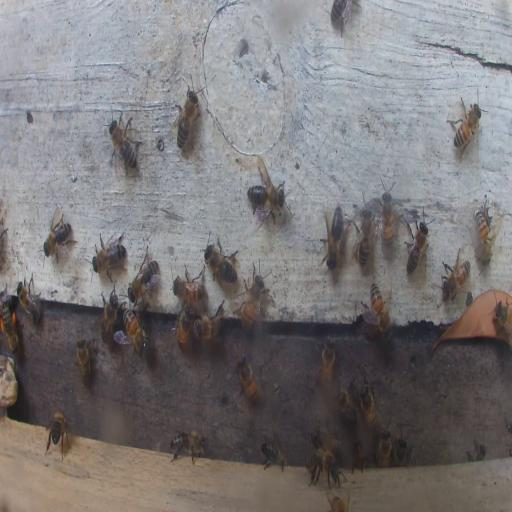bee: (106, 108, 140, 176), (247, 170, 288, 225), (448, 97, 484, 157), (237, 263, 267, 332), (203, 234, 240, 288), (172, 81, 200, 152), (129, 249, 160, 305), (43, 207, 74, 262), (91, 231, 128, 277), (440, 250, 471, 300), (320, 203, 344, 267), (404, 215, 430, 274), (305, 447, 340, 489), (367, 282, 392, 340), (122, 307, 150, 358), (172, 264, 205, 307), (236, 358, 264, 406), (474, 203, 496, 263), (169, 430, 207, 464), (354, 205, 374, 269), (17, 274, 42, 322), (45, 412, 71, 458), (315, 337, 336, 390), (359, 376, 378, 434), (258, 436, 288, 472), (1, 296, 19, 354), (100, 288, 120, 339), (328, 0, 356, 35), (194, 309, 224, 341), (336, 383, 358, 423), (491, 301, 512, 340), (175, 306, 194, 346), (75, 337, 90, 386), (382, 192, 394, 253), (375, 426, 392, 468), (350, 438, 366, 473), (468, 440, 486, 462), (394, 436, 408, 464), (310, 422, 324, 448), (328, 494, 348, 512)
